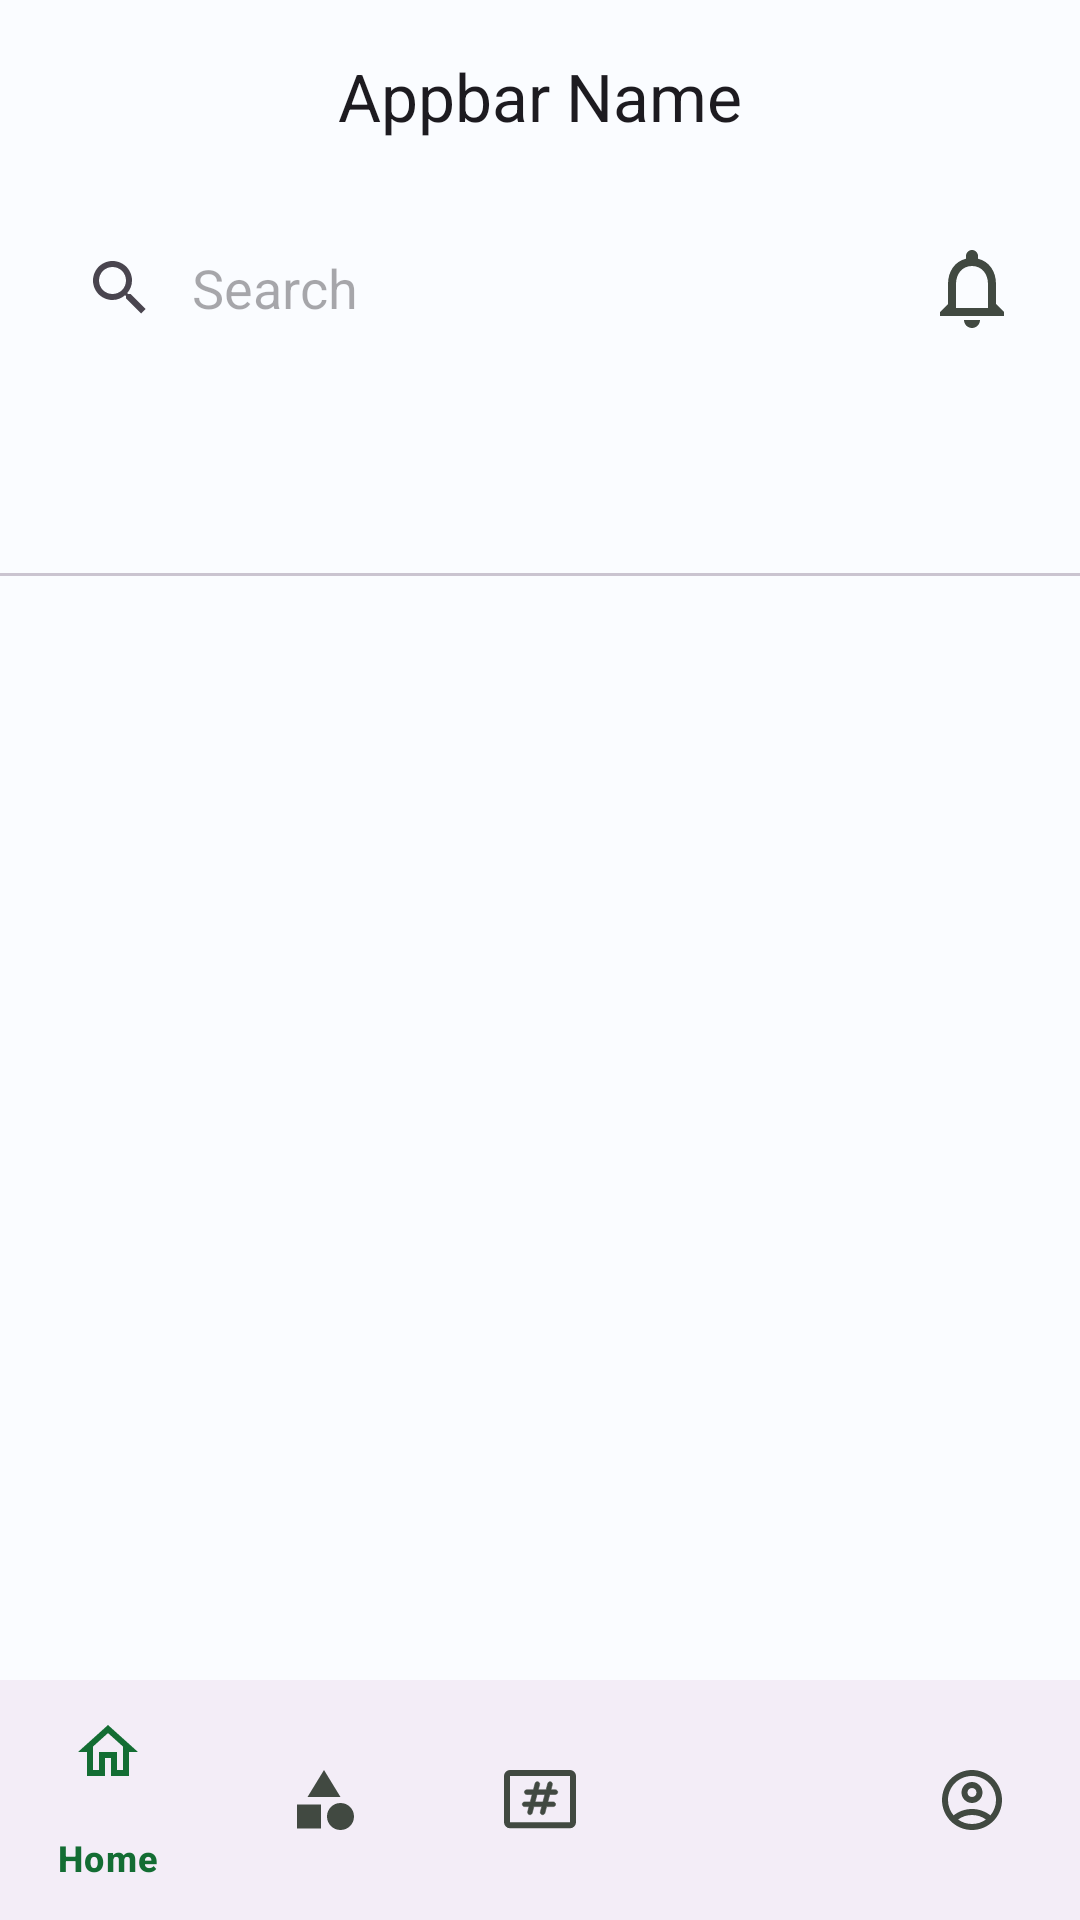

Named icons in this screenshot (1080px×1920px) and their bounding boxes, Rect(x1, y1, x2, y2):
notification: Rect(940, 250, 1004, 328)
